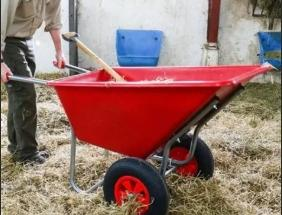ARROSOIR: (0, 30, 275, 215)
